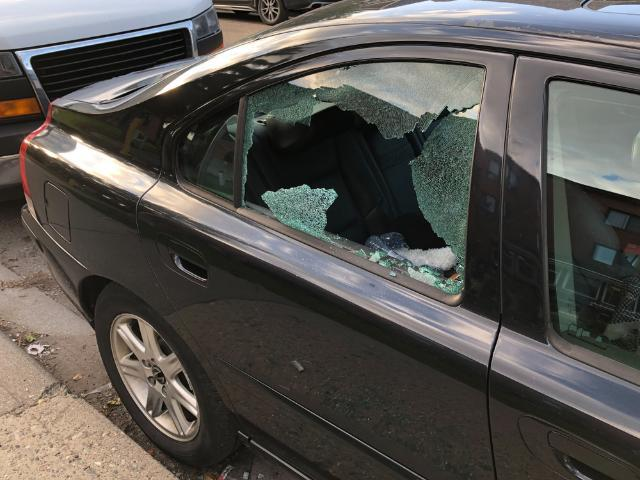glass shatter: (241, 61, 486, 294)
